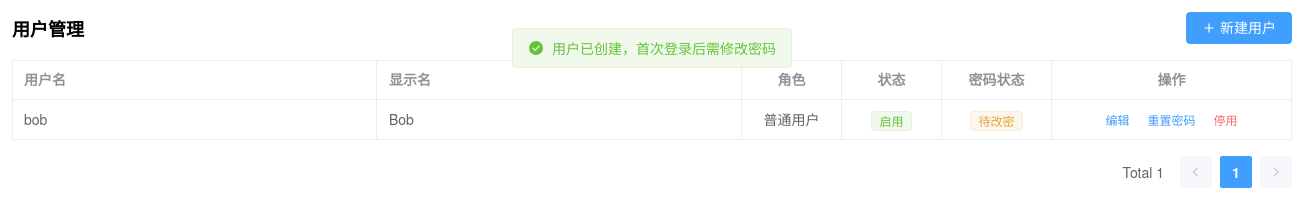
用户管理视图 › 确认停用用户后提交 isActive=false 并刷新列表
Click the button with class "deactivate-user-button": (1226, 122) [1210, 112, 1240, 130]
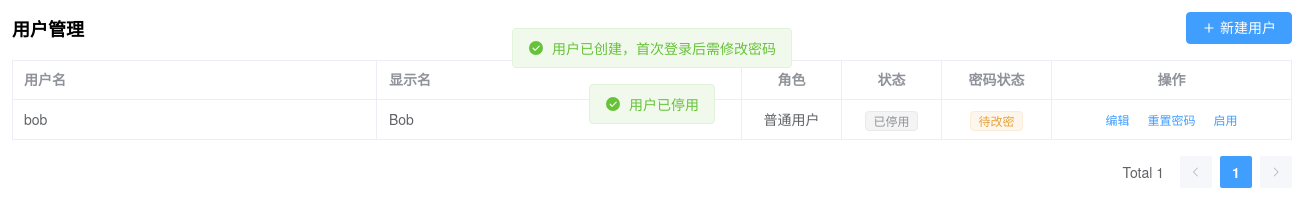
Expected: the text "已停用" is shown, [874, 115, 910, 127]
